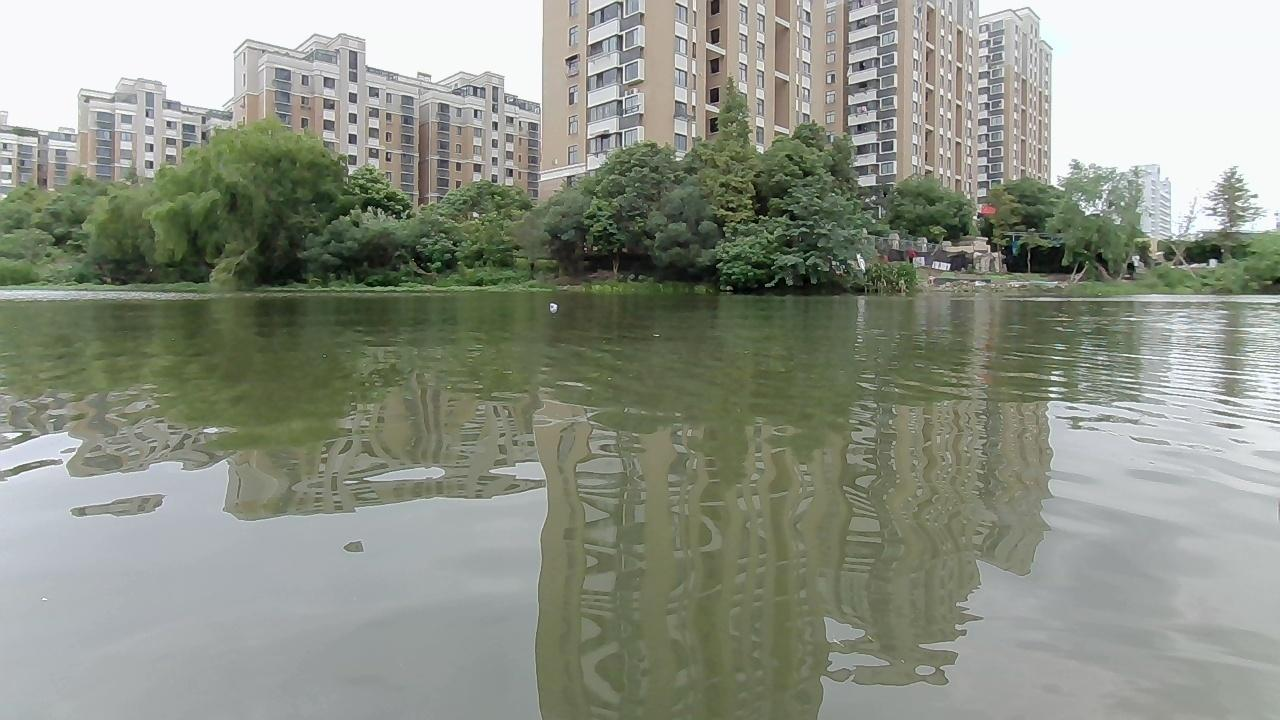bottle: (547, 298, 557, 311)
